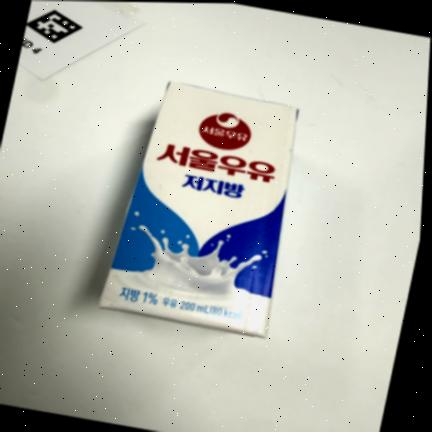milk_blue: (100, 82, 297, 338)
